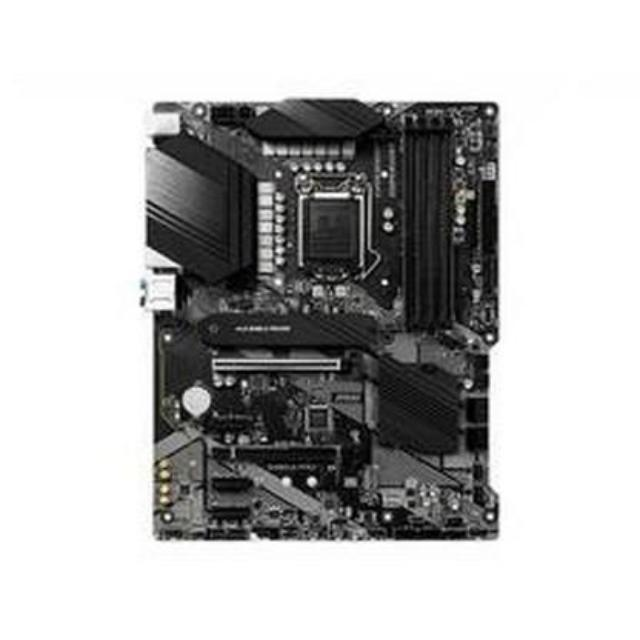Mainboard: (130, 92, 510, 560)
